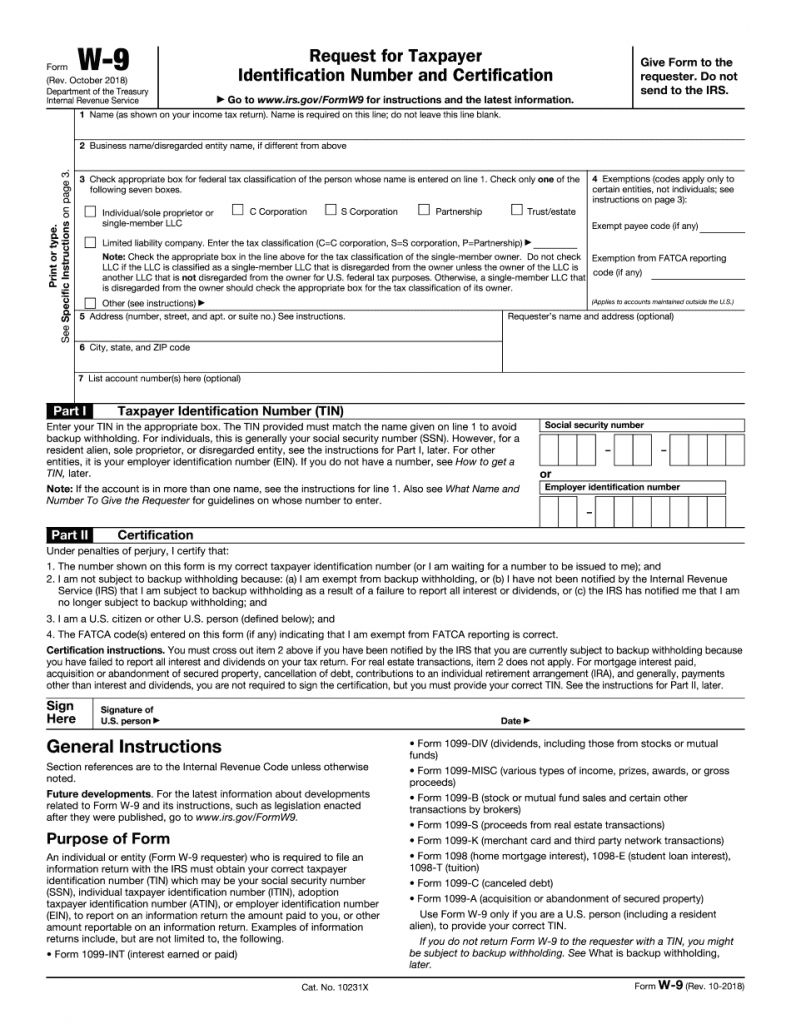checkbox: (82, 204, 97, 218), (82, 235, 97, 249), (82, 295, 97, 309), (230, 201, 245, 215), (323, 202, 338, 216), (416, 202, 431, 216), (509, 202, 524, 216)
textbox: (70, 367, 746, 407), (72, 106, 749, 143), (72, 137, 749, 174), (499, 306, 751, 376), (71, 306, 505, 343), (71, 337, 505, 374), (152, 693, 499, 733), (520, 694, 751, 733), (592, 491, 729, 530), (666, 430, 749, 470), (536, 431, 598, 468), (610, 431, 654, 468), (536, 492, 580, 529)
textline: (645, 266, 752, 283), (696, 220, 749, 236), (531, 235, 579, 251)
